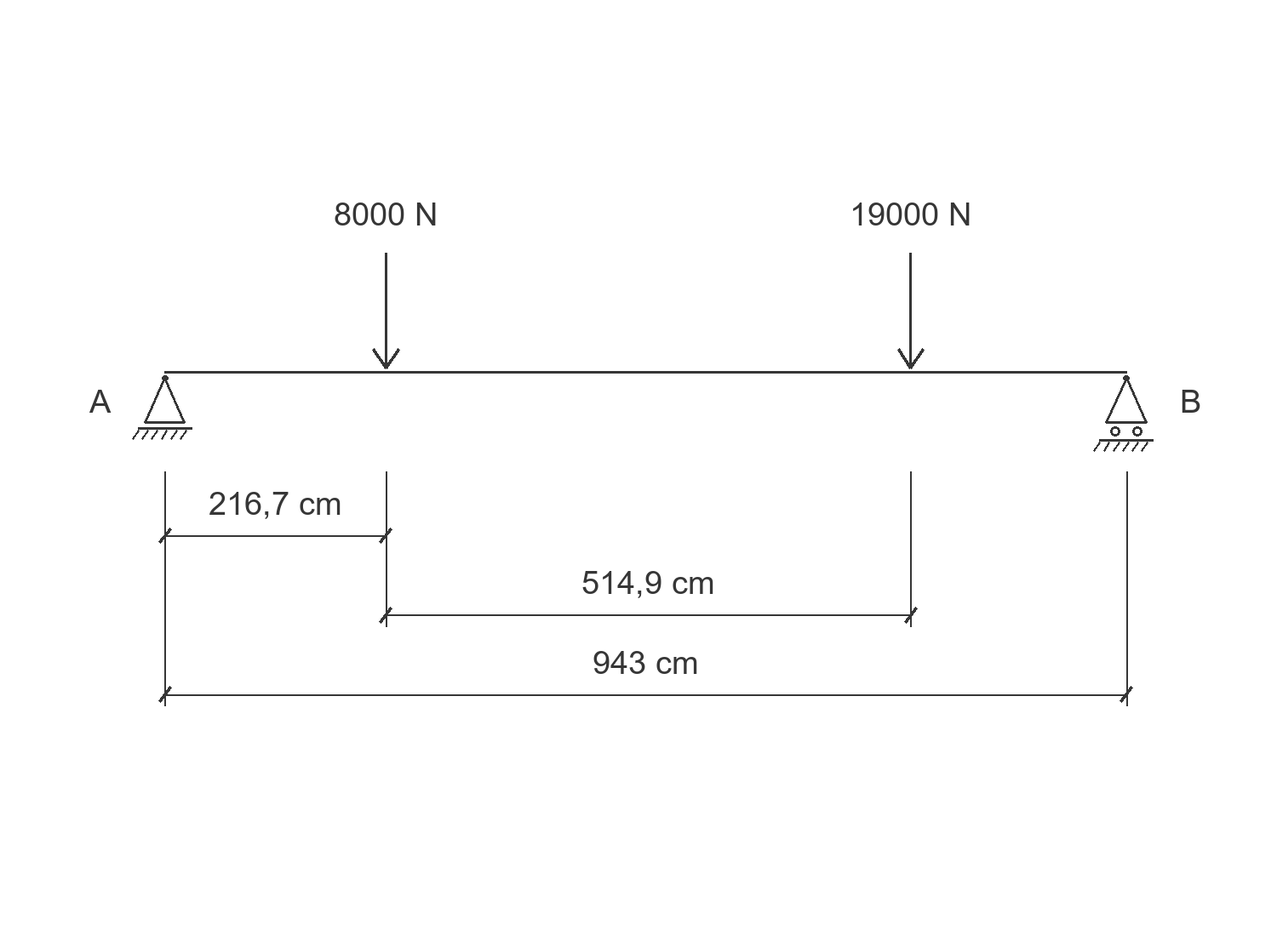pin_support: (132, 375, 192, 440)
point_load: (372, 253, 400, 369), (897, 253, 925, 369)
roller_support: (1093, 375, 1154, 452)
